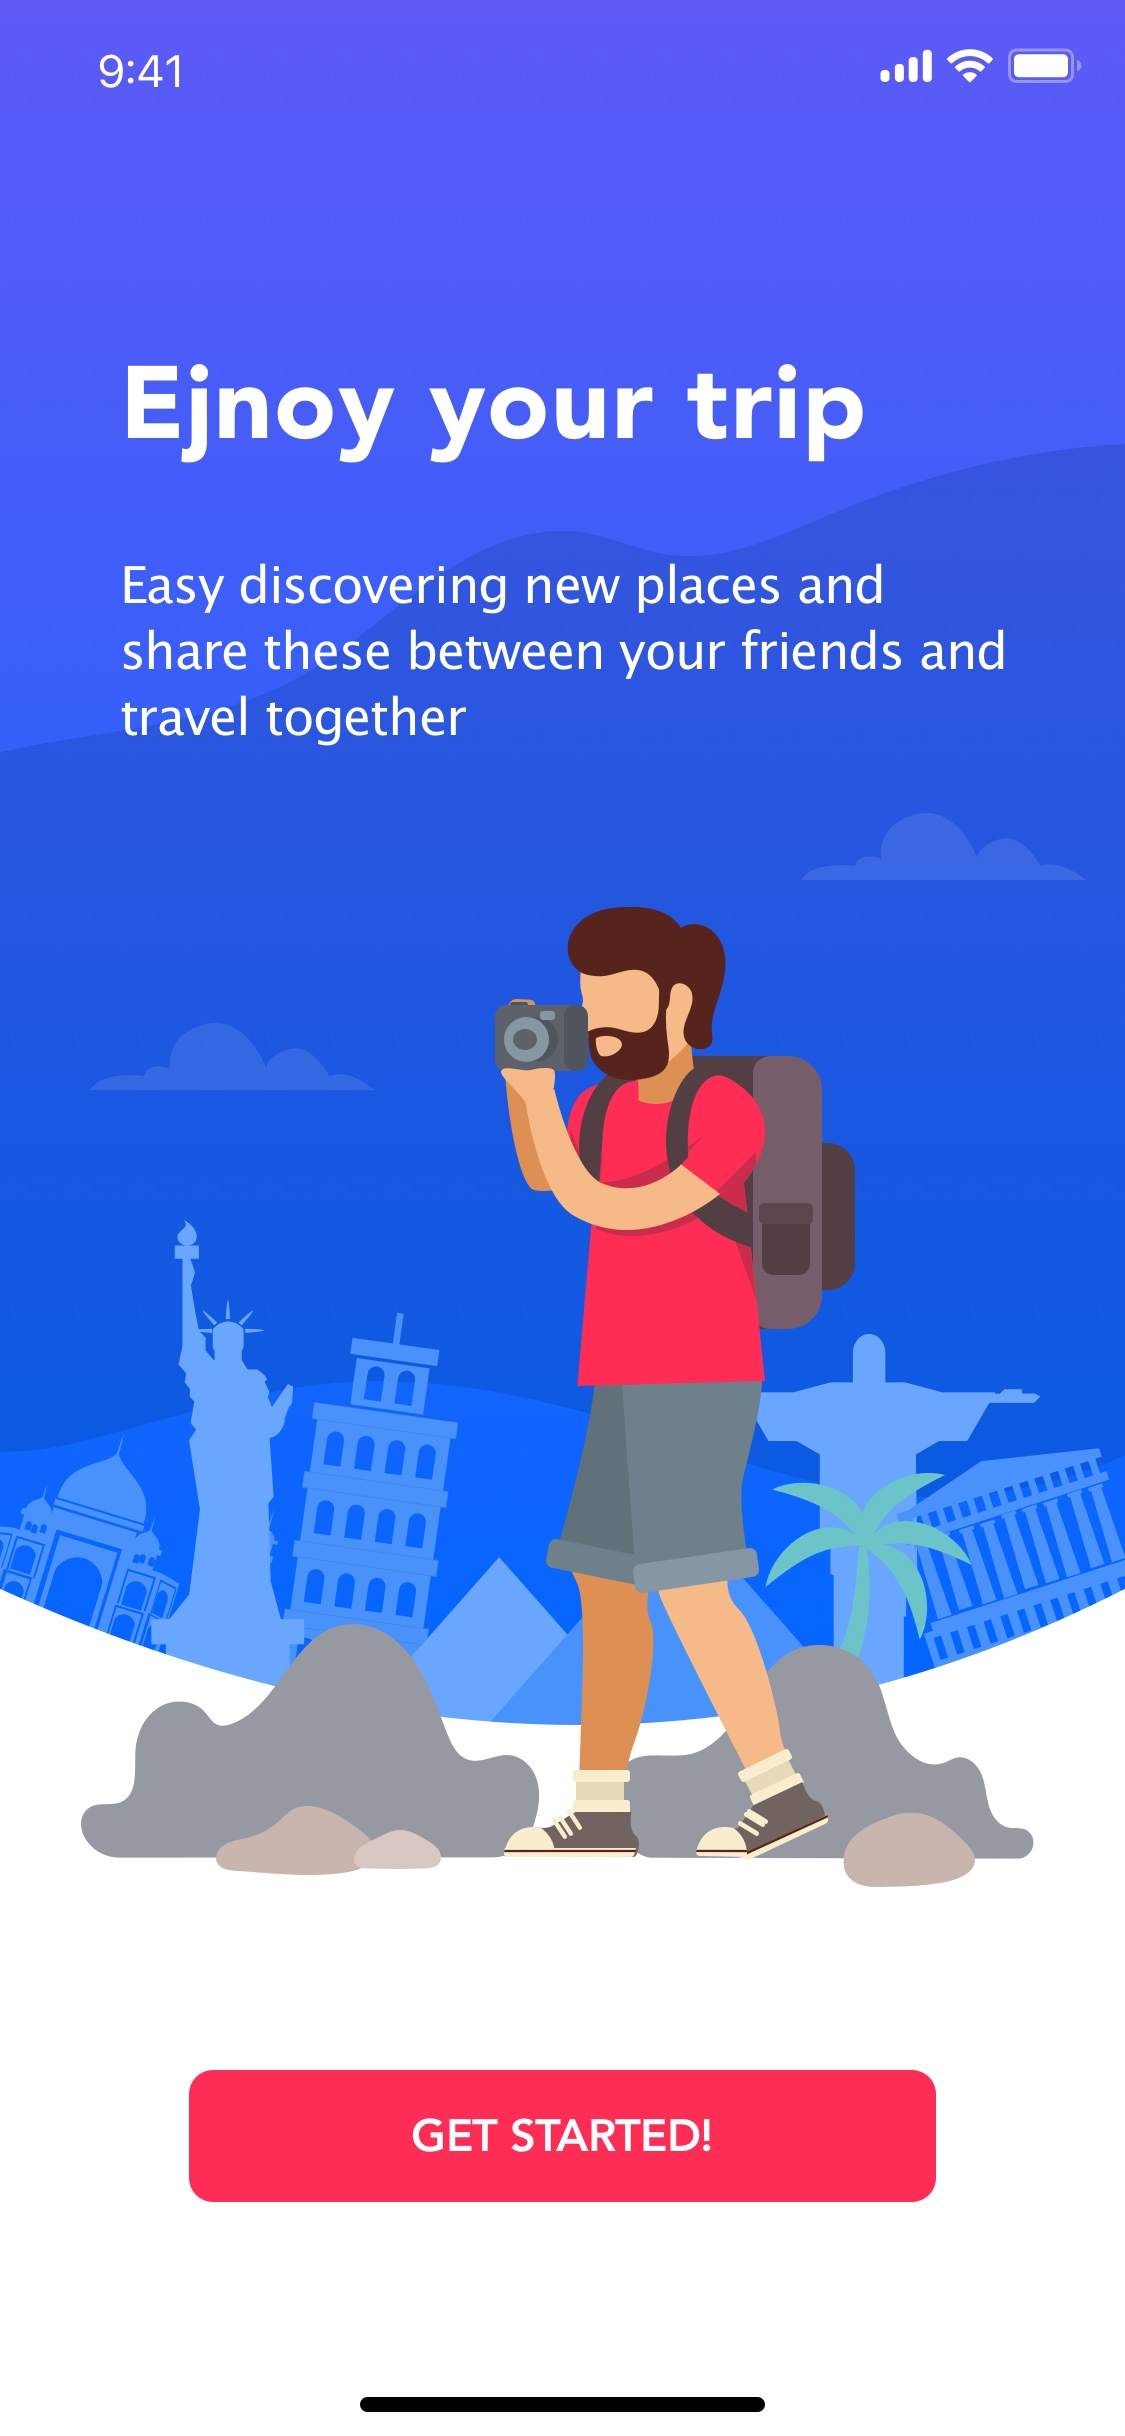Image: (2, 813, 1125, 1888)
Text: (121, 562, 1005, 747), (127, 364, 864, 465)
TextButton: (190, 2069, 937, 2203)
UpperTaskBar: (99, 47, 1083, 90)
